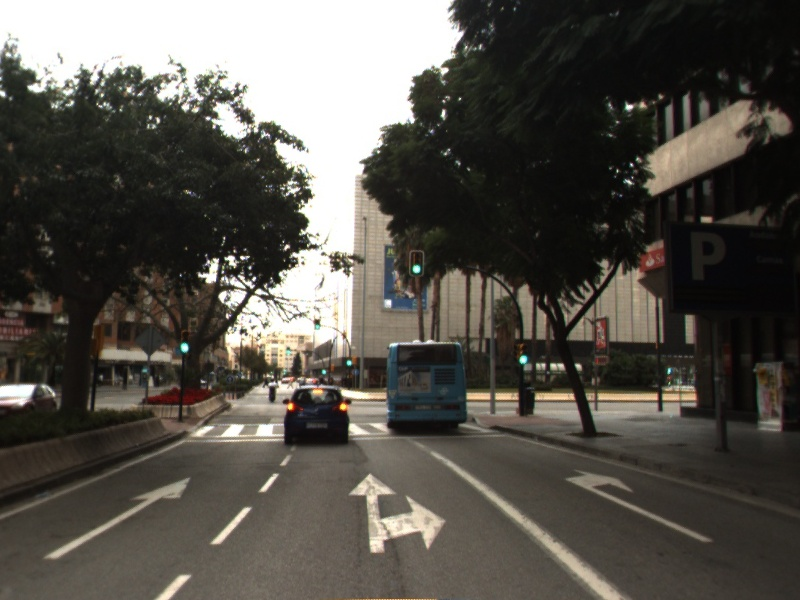RIGHT: (562, 467, 717, 545)
STRAIGHT: (41, 475, 194, 562)
STRAIGHT_RIGHT: (345, 470, 449, 556)
